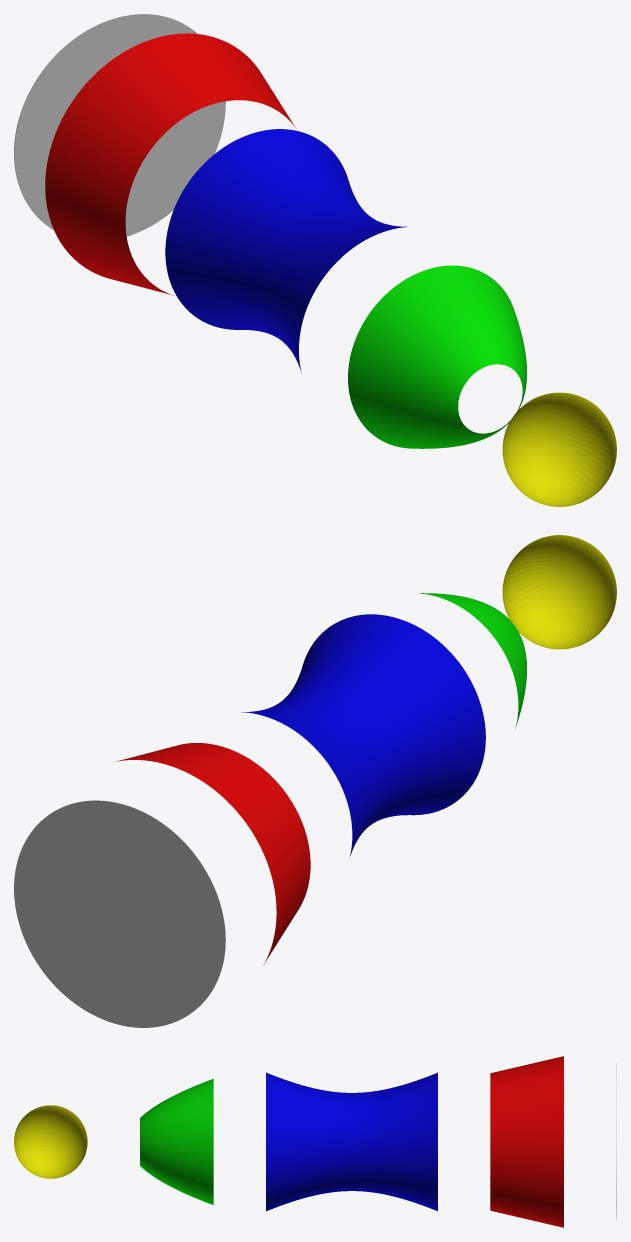
Rendered from alfil_colores_matlab_partes_glb_correcto.glb.
3 views of the same model, one above another, from view 1: azimuth 30°, elevation 25°; view 2: azimuth 150°, elevation 25°; view 3: azimuth 270°, elevation 25° (orthographic). The views are drawn at different scales.
Parts seen in each view (by area): view 1: world; view 2: world; view 3: world.
Part boxes in pixels (x1,y1,x2,y2): world: [14, 14, 616, 506]; world: [14, 535, 616, 1027]; world: [14, 1056, 616, 1227].
Size of the model in its own units: 0.0655 by 0.0655 by 0.23.
